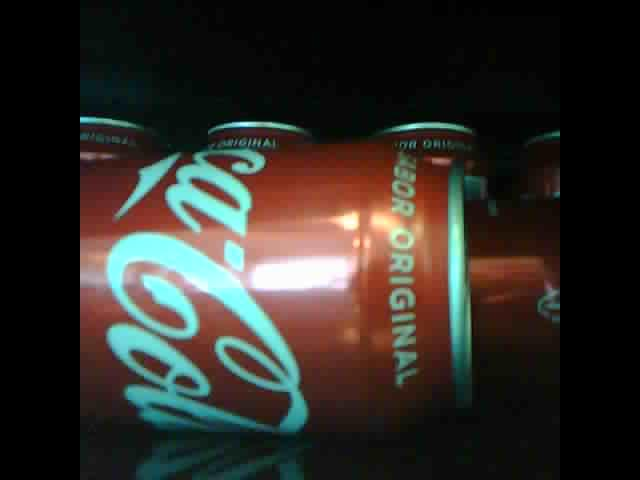coca cola: (84, 138, 467, 439), (463, 196, 560, 366), (386, 119, 484, 158), (201, 121, 313, 154), (80, 112, 149, 163)
